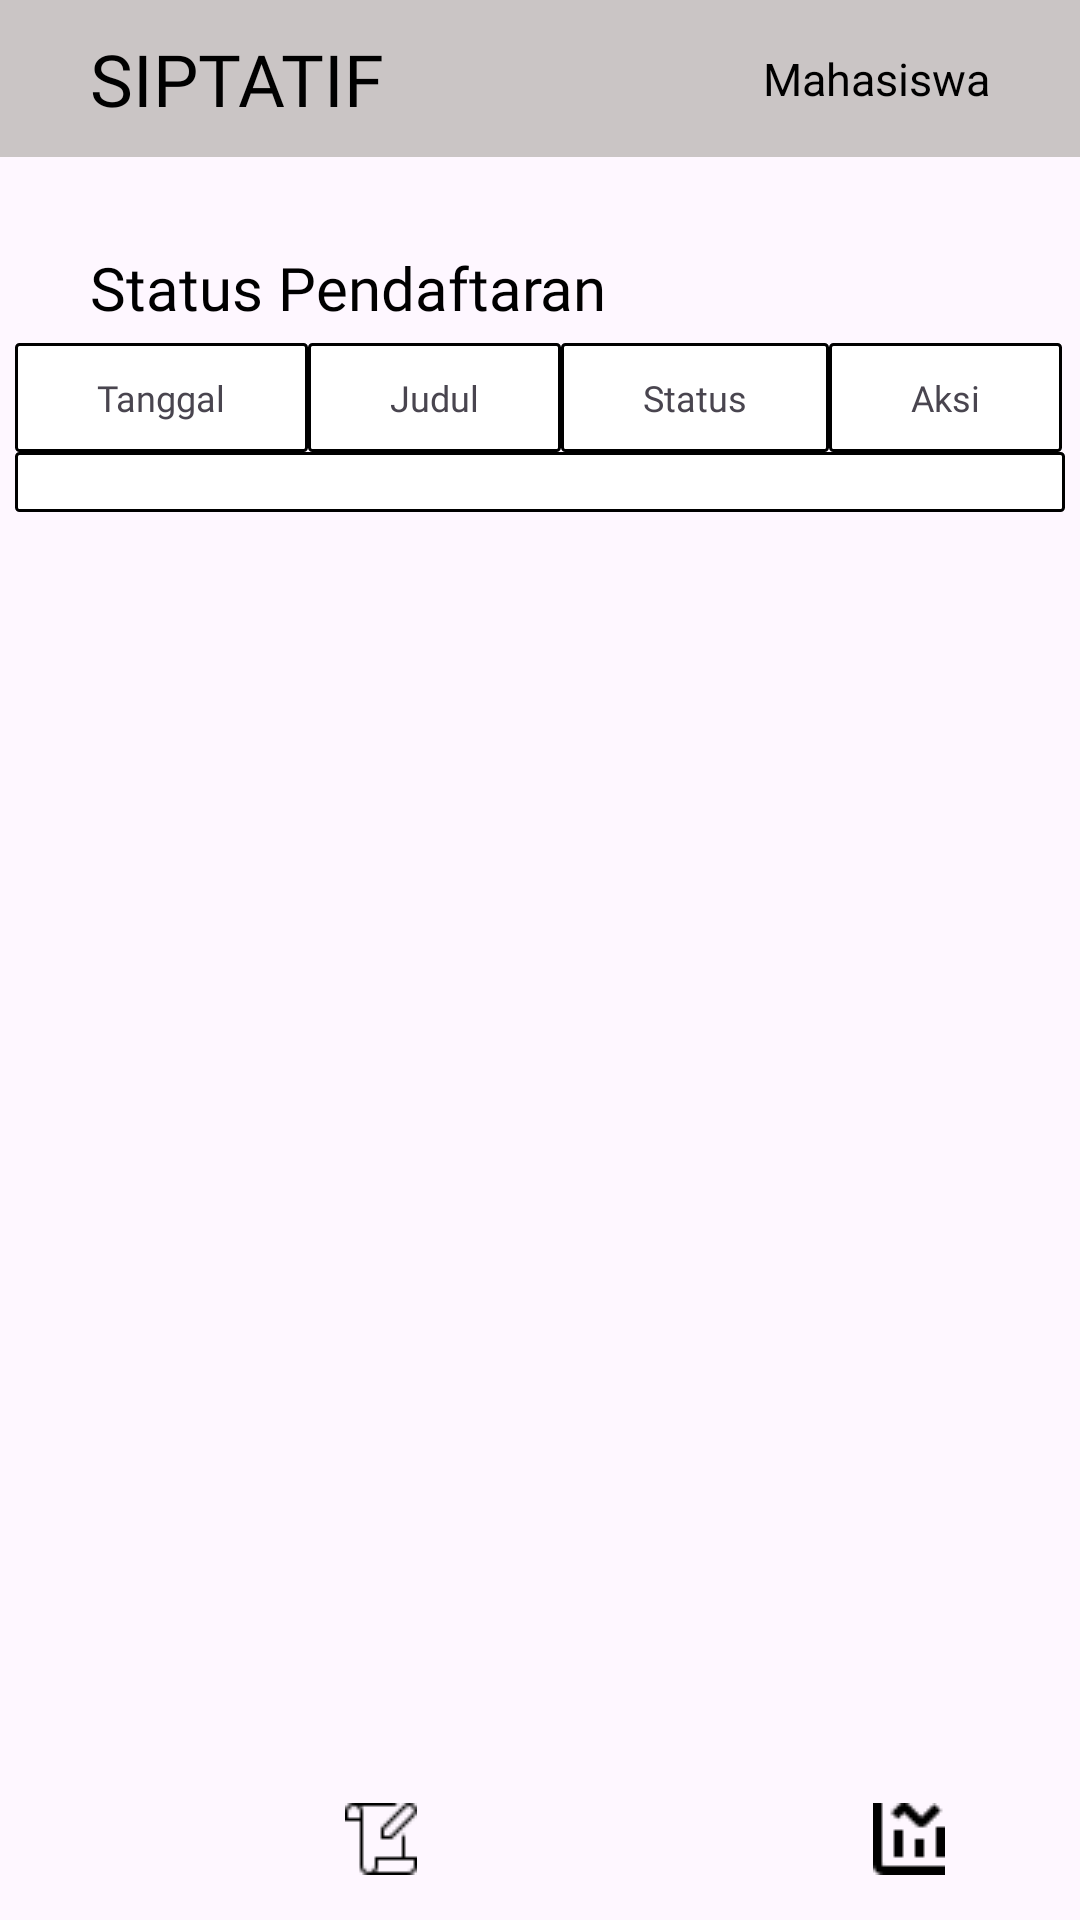

Icons on this 1080×1920 Android screen, each with the point to tap as (x=x, y=y):
scriptt: (x=381, y=1839)
